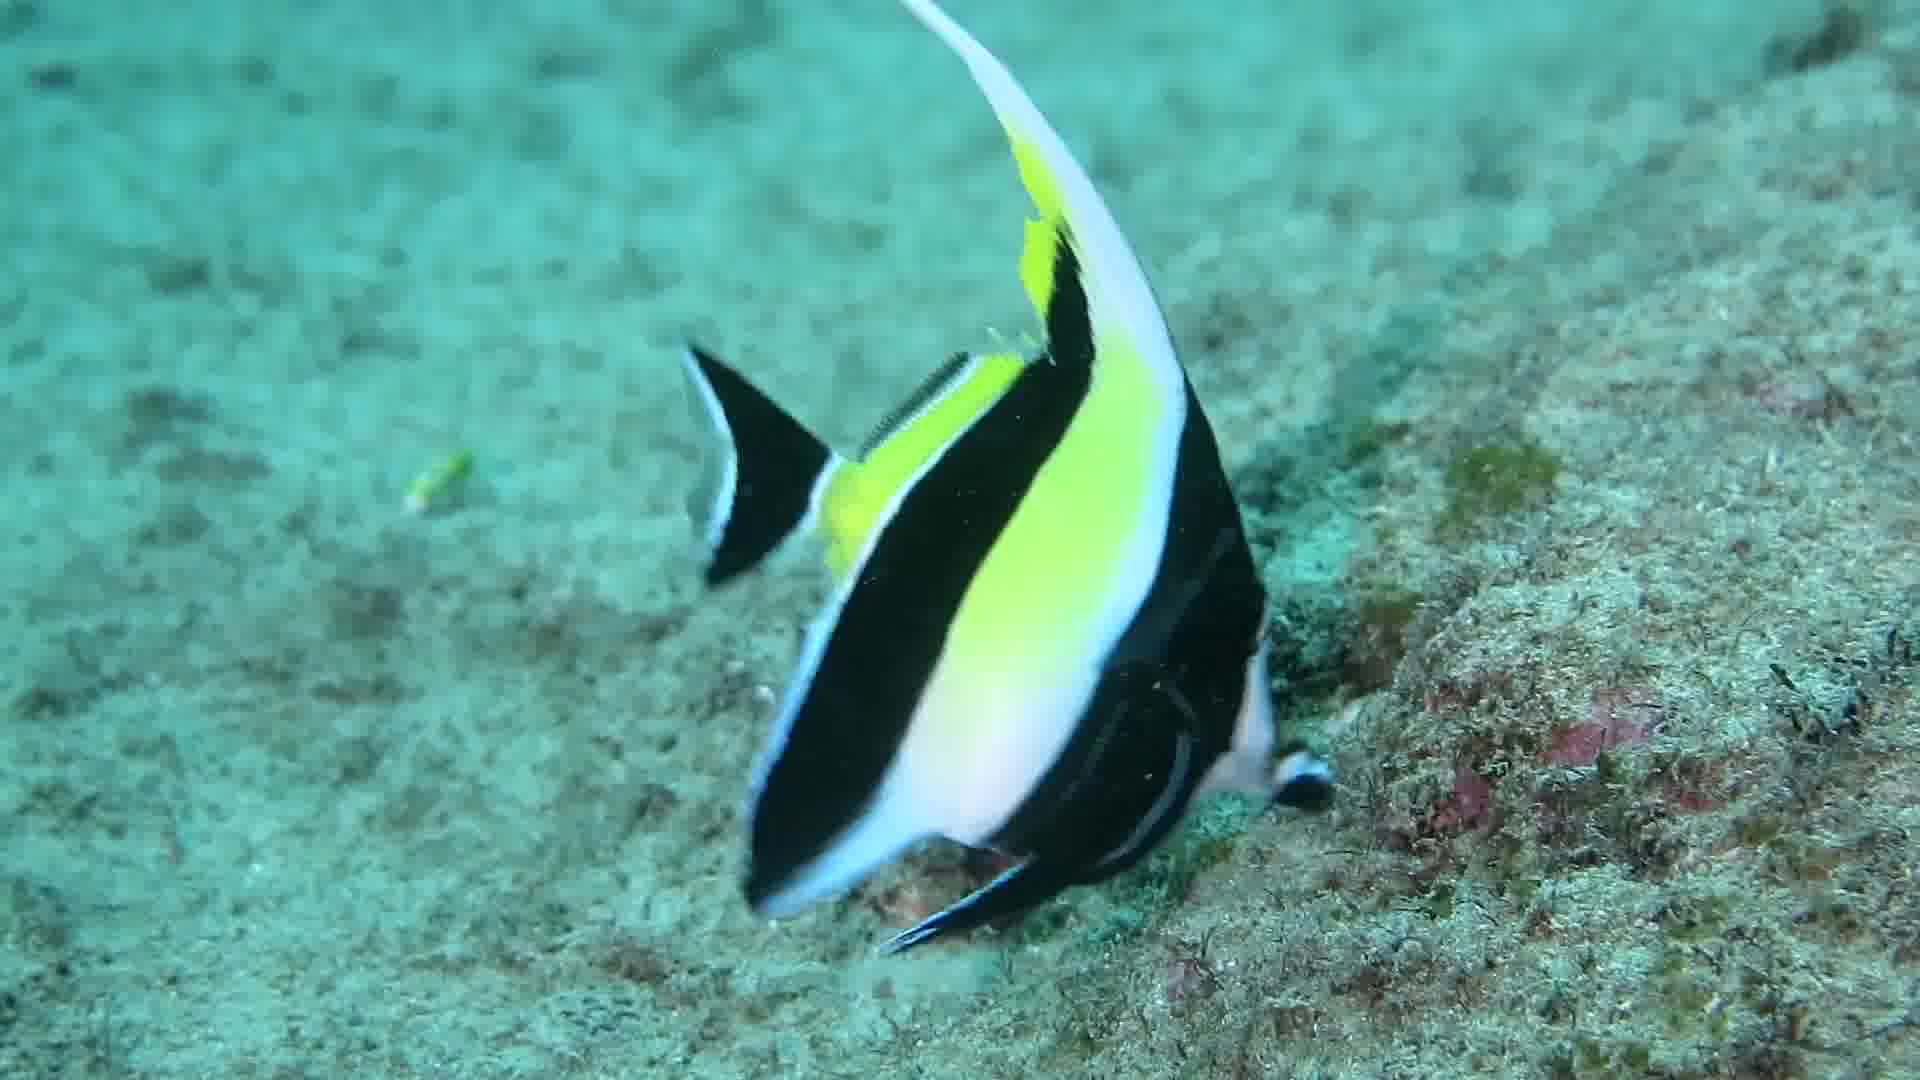Zanclus cornutus: (600, 232, 1370, 1000)
